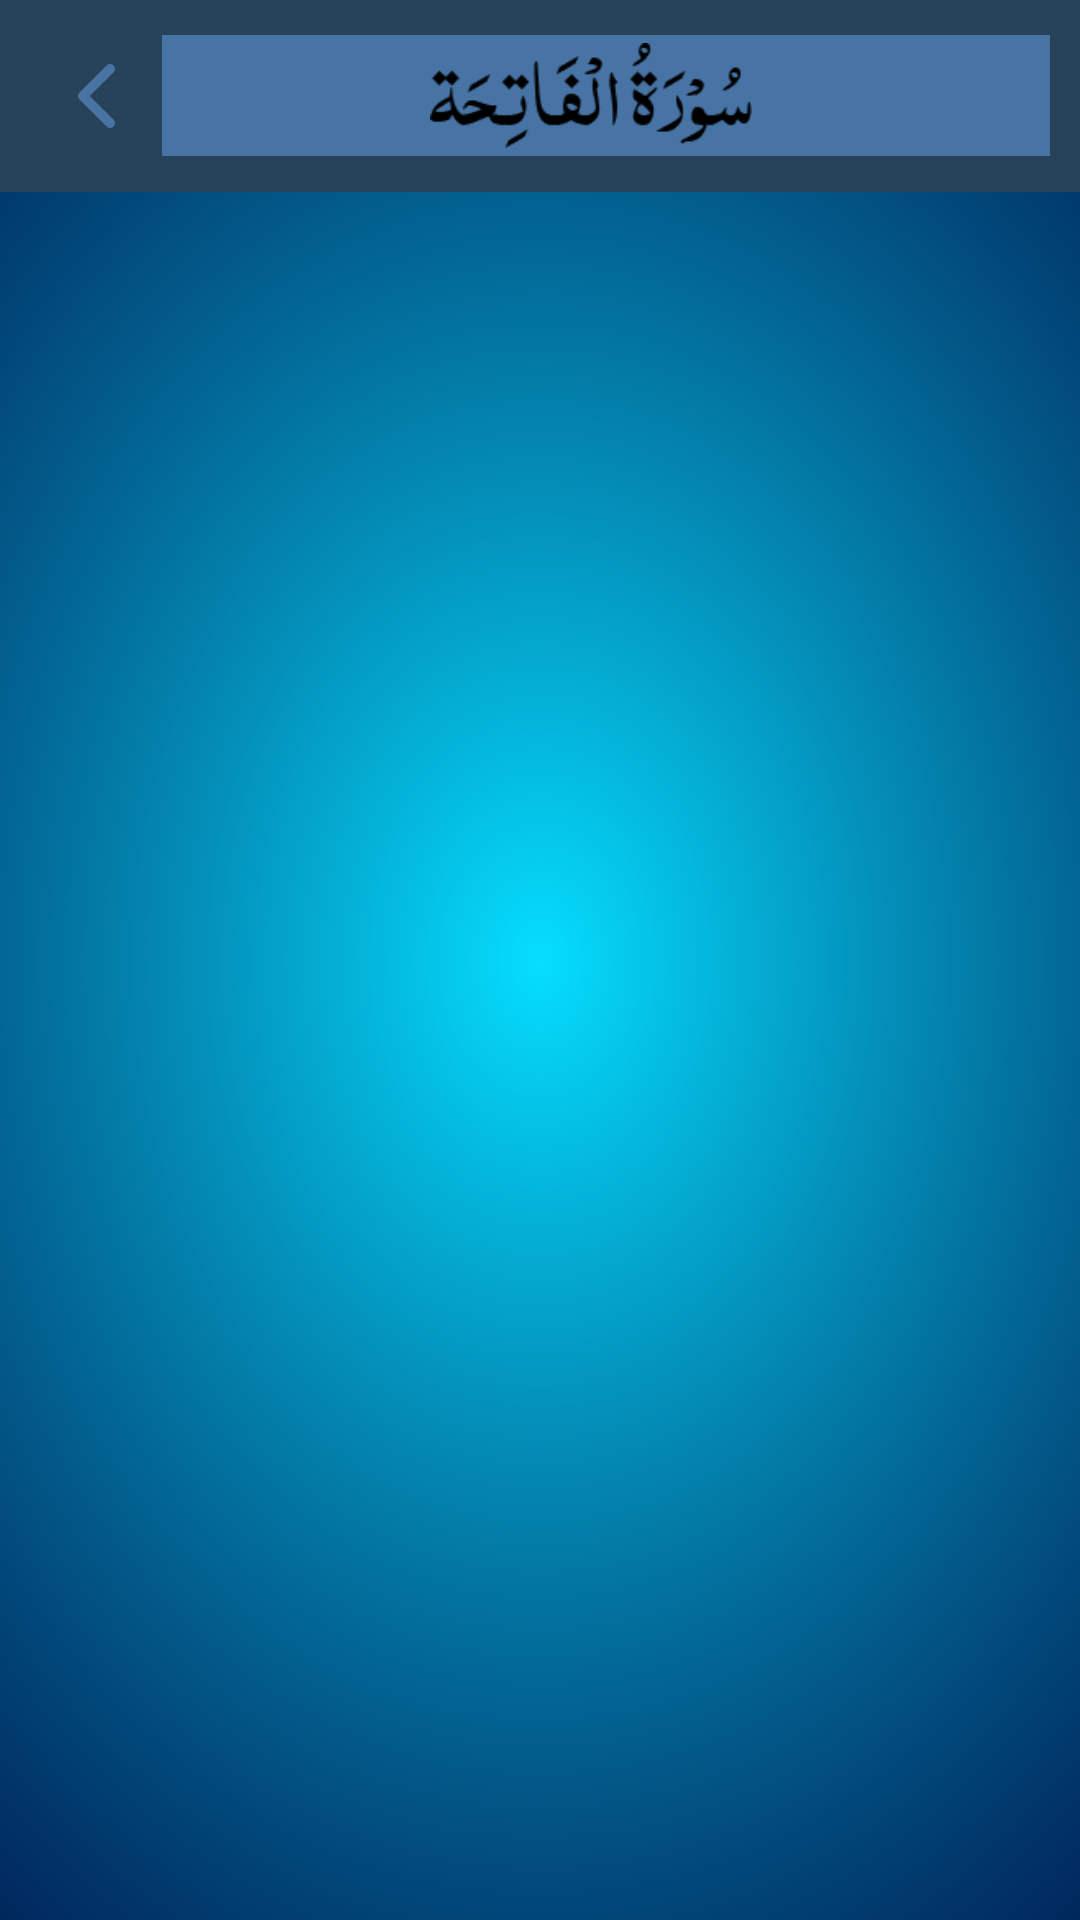

Named icons in this screenshot (1080 x 1920) and their centers, (x=x, y=y):
back: (x=96, y=96)
